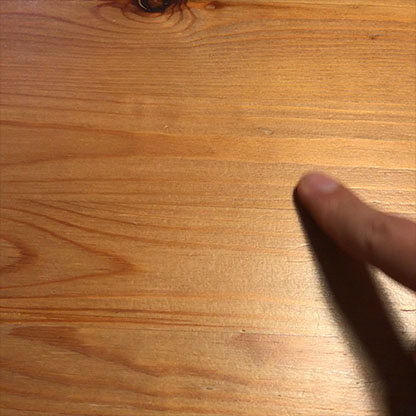fingertip: (293, 165, 345, 211)
